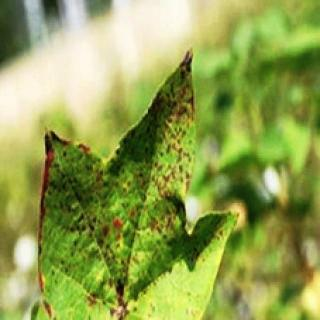leaf spot: (41, 64, 240, 320)
